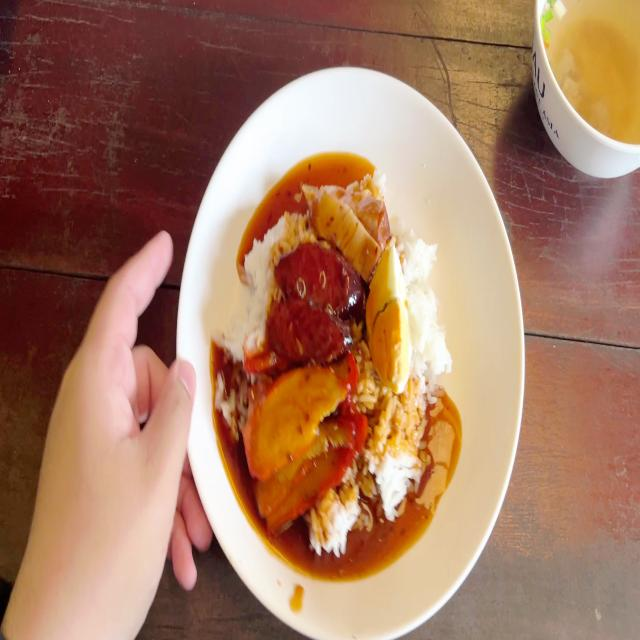boiled_egg: (371, 244, 411, 392)
chainese_sausage: (274, 245, 355, 360), (277, 246, 351, 314), (276, 310, 345, 358)
crispy_pork: (307, 175, 387, 261), (307, 194, 377, 258)
red_pork: (241, 368, 349, 519), (270, 429, 355, 527), (251, 364, 339, 452)
red_pork_and_crispy_pork: (230, 170, 454, 550)
rice: (373, 388, 431, 505), (408, 227, 449, 384), (320, 484, 362, 552), (264, 211, 302, 253)
